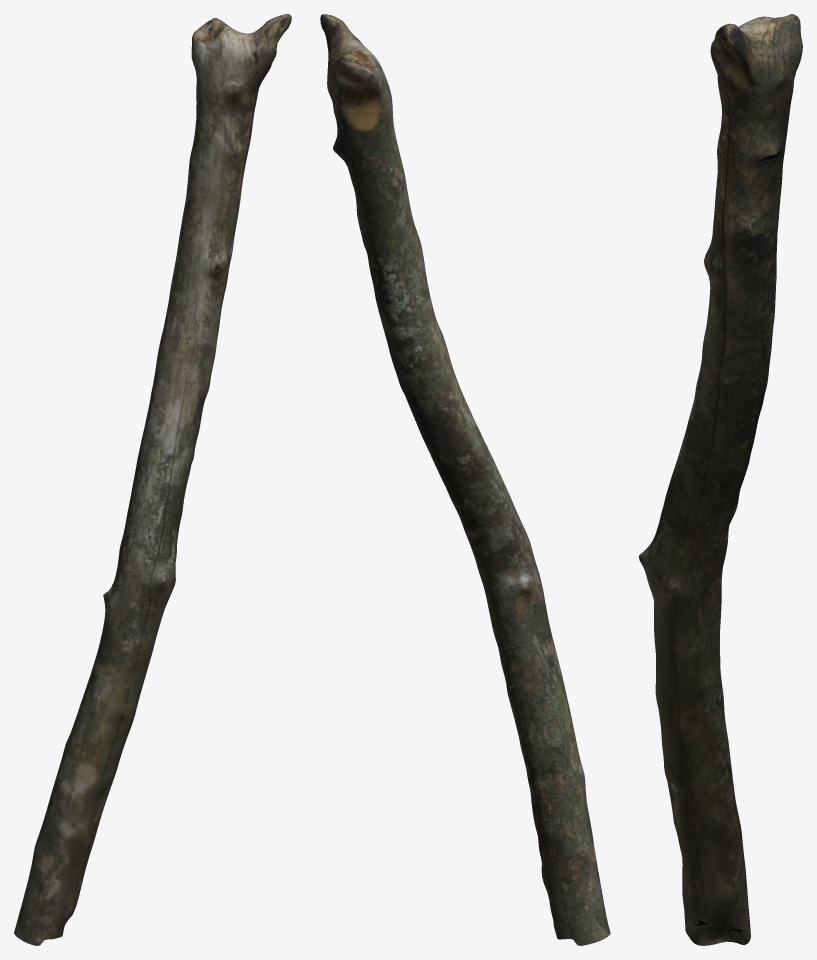
Rendered from stick.fbx.
3 renders of one model, left to right at view 1: azimuth 30°, elevation 25°; view 2: azimuth 150°, elevation 25°; view 3: azimuth 270°, elevation 25°, orthographic. The views are drawn at different scales.
Visible parts, largest first — view 1: Stick; view 2: Stick; view 3: Stick.
Boxes of the visible parts, bbox=[...] form: Stick: bbox=[14, 14, 291, 945]; Stick: bbox=[320, 14, 610, 945]; Stick: bbox=[639, 14, 802, 945].
Bounding box in the file's own units: 12.15 × 35.63 × 4.99.
